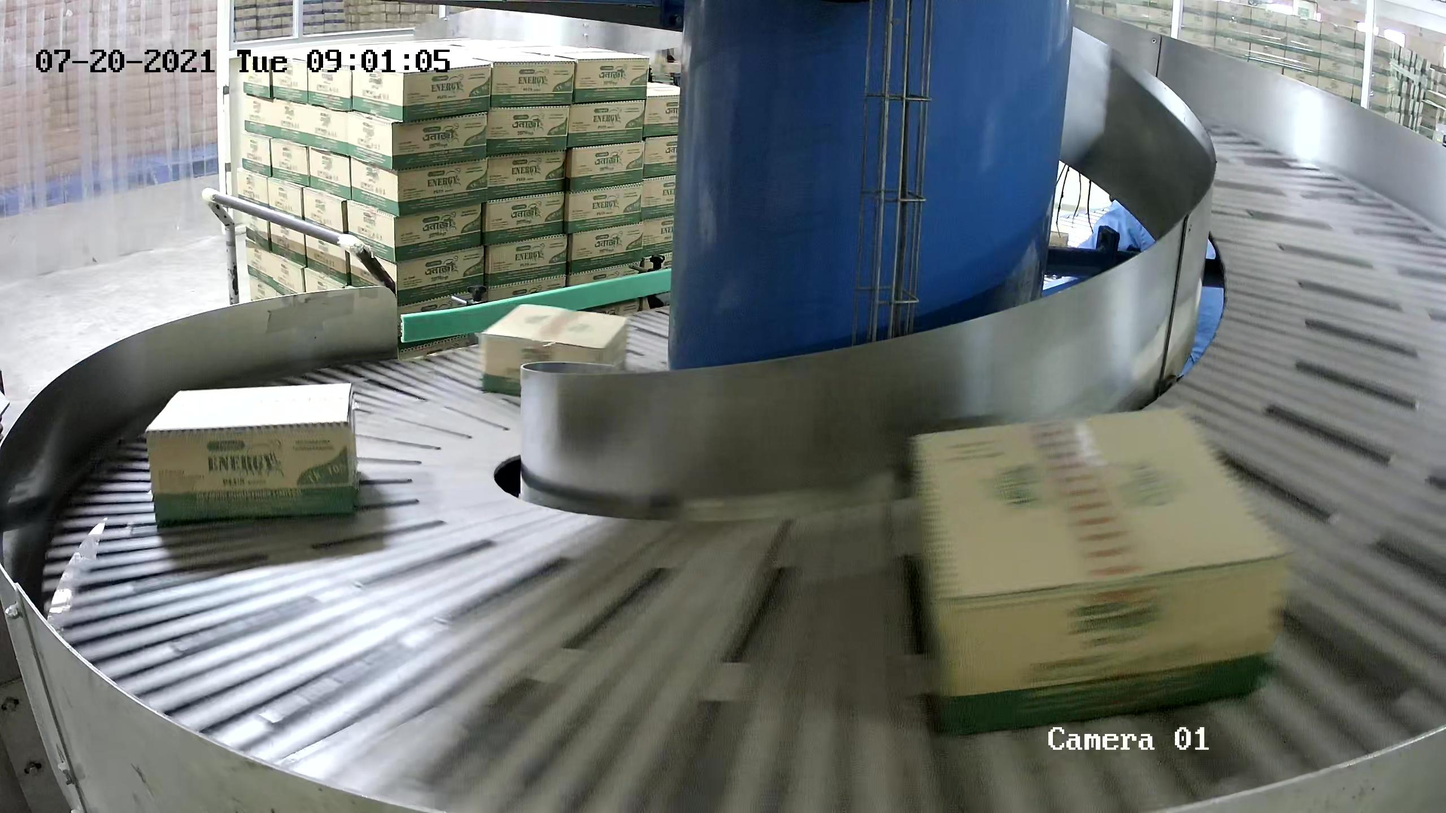Box: (907, 405, 1297, 737), (144, 382, 359, 521), (480, 303, 629, 395)
